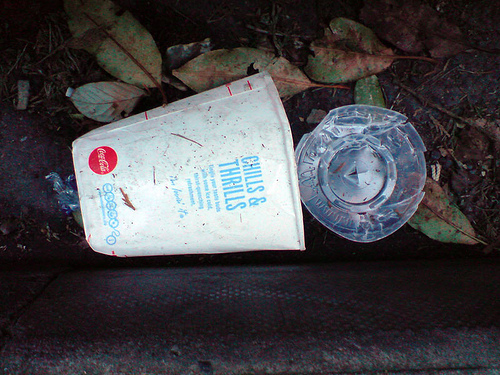litter: (75, 72, 308, 256), (305, 102, 428, 241)
